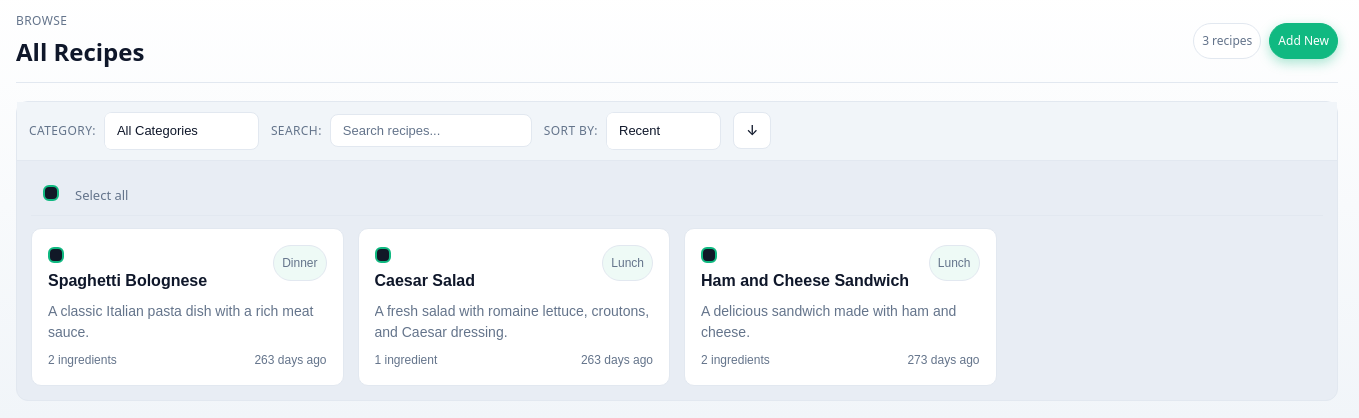
Test: Recipes Page › Selection › selects individual recipe when checkbox is clicked
Click the checkbox named "select ham and cheese sandwich": click(709, 254) [701,246,717,262]
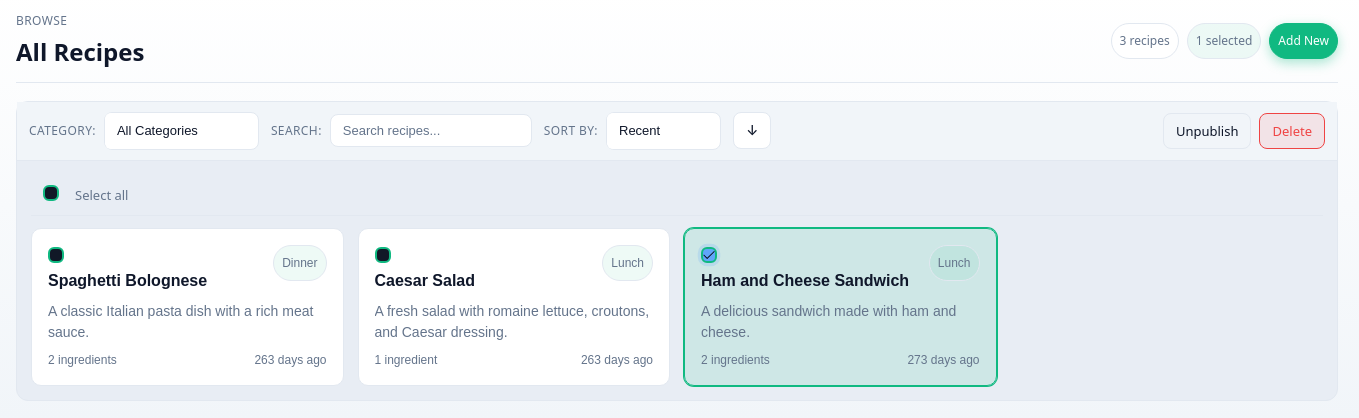
Expected: the checkbox named "select ham and cheese sandwich" is checked, [701,246,717,262]
Expected: the text "1 selected" is shown, [1187,23,1261,59]
